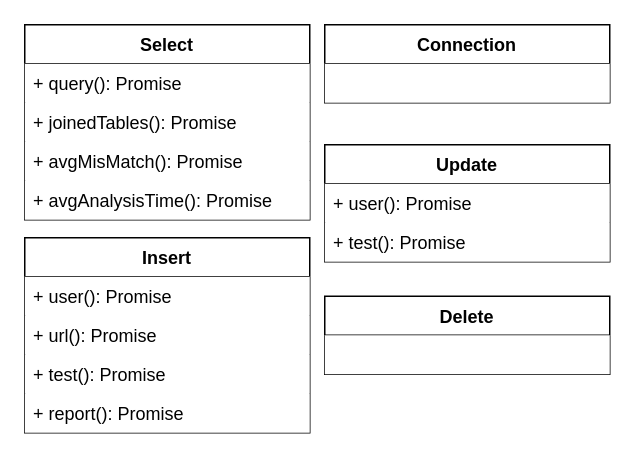
The diagram is 635 pixels wide and 458 high, and some of its shapes have lost their labels. Each missing label, with the centre of its shape:
"+ createBaseTables(): void" belongs at point 466,82.
"+ row( ): Promise" belongs at point 466,354.
